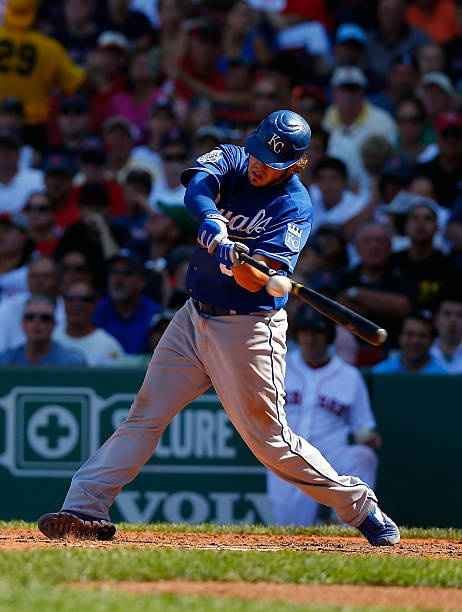bita: (232, 249, 386, 343)
